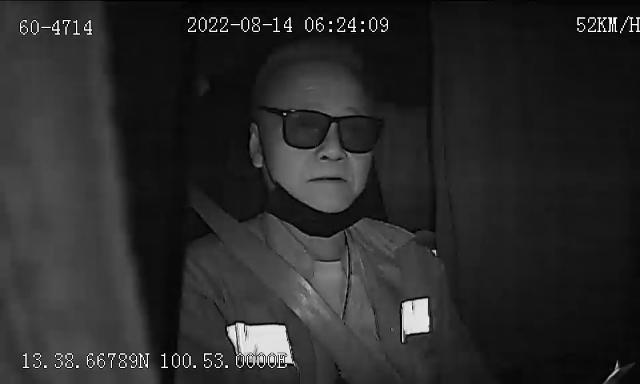SafeDriving: (286, 112, 326, 134)
Seatbelt: (192, 194, 386, 384)
